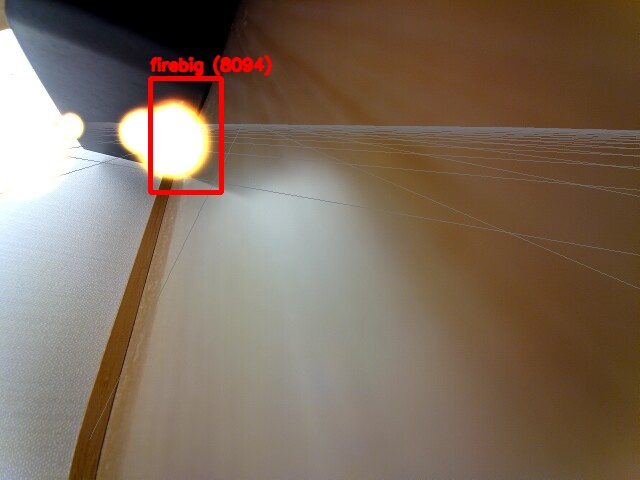firebig: (150, 78, 221, 192)
